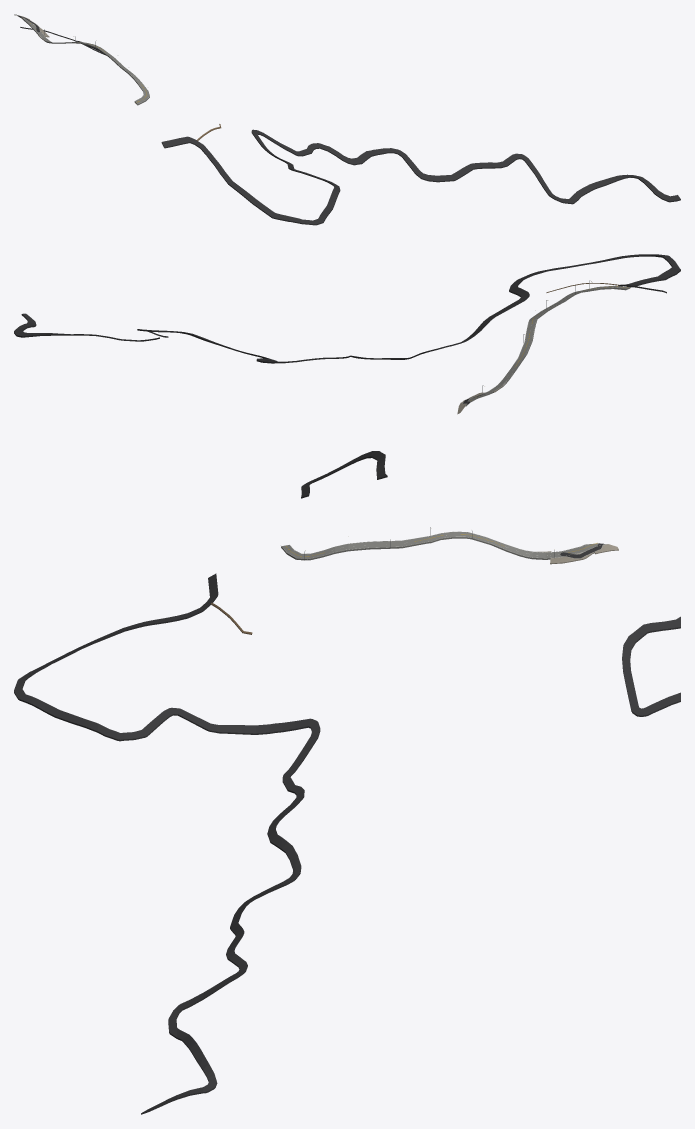
Rendered from 16-54739-29720.62afcf82.glb.
The picture shows the model from 3 angles, top to bottom: view 1: azimuth 30°, elevation 25°; view 2: azimuth 150°, elevation 25°; view 3: azimuth 270°, elevation 25°; orthographic projection. The views are drawn at different scales.
Size of the model in its own units: 589 by 227 by 506.
